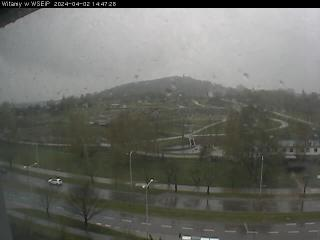car: (47, 177, 64, 188)
